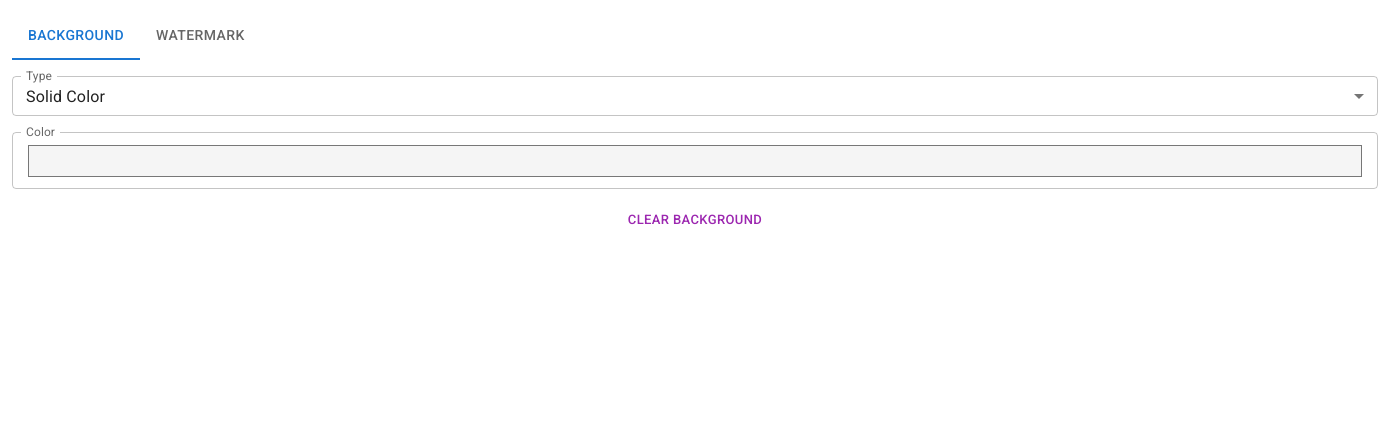
it: BackgroundWatermarkPanel — watermark › shows the opacity percentage derived from the 0-1 opacity value
Step 1. Click the tab "Watermark" → (200, 36), box x1=140 y1=12 x2=261 y2=60
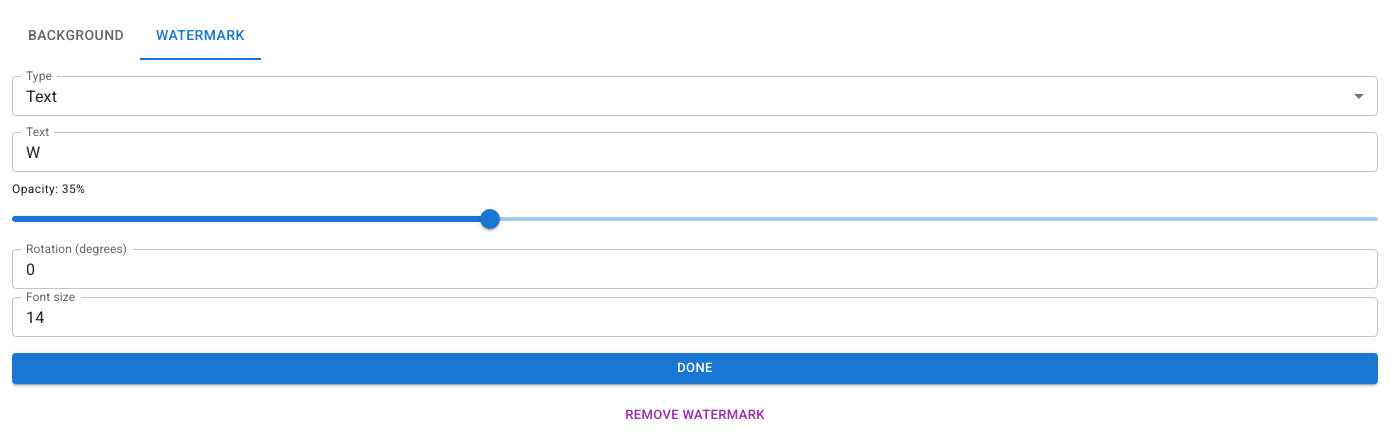
Expected: the text "Opacity: 35%" is shown, x1=12 y1=182 x2=85 y2=196
